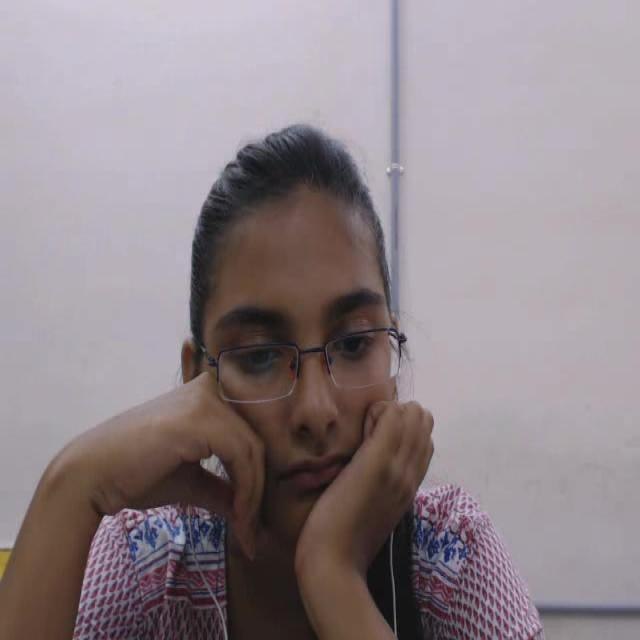Bored: (166, 71, 459, 592)
